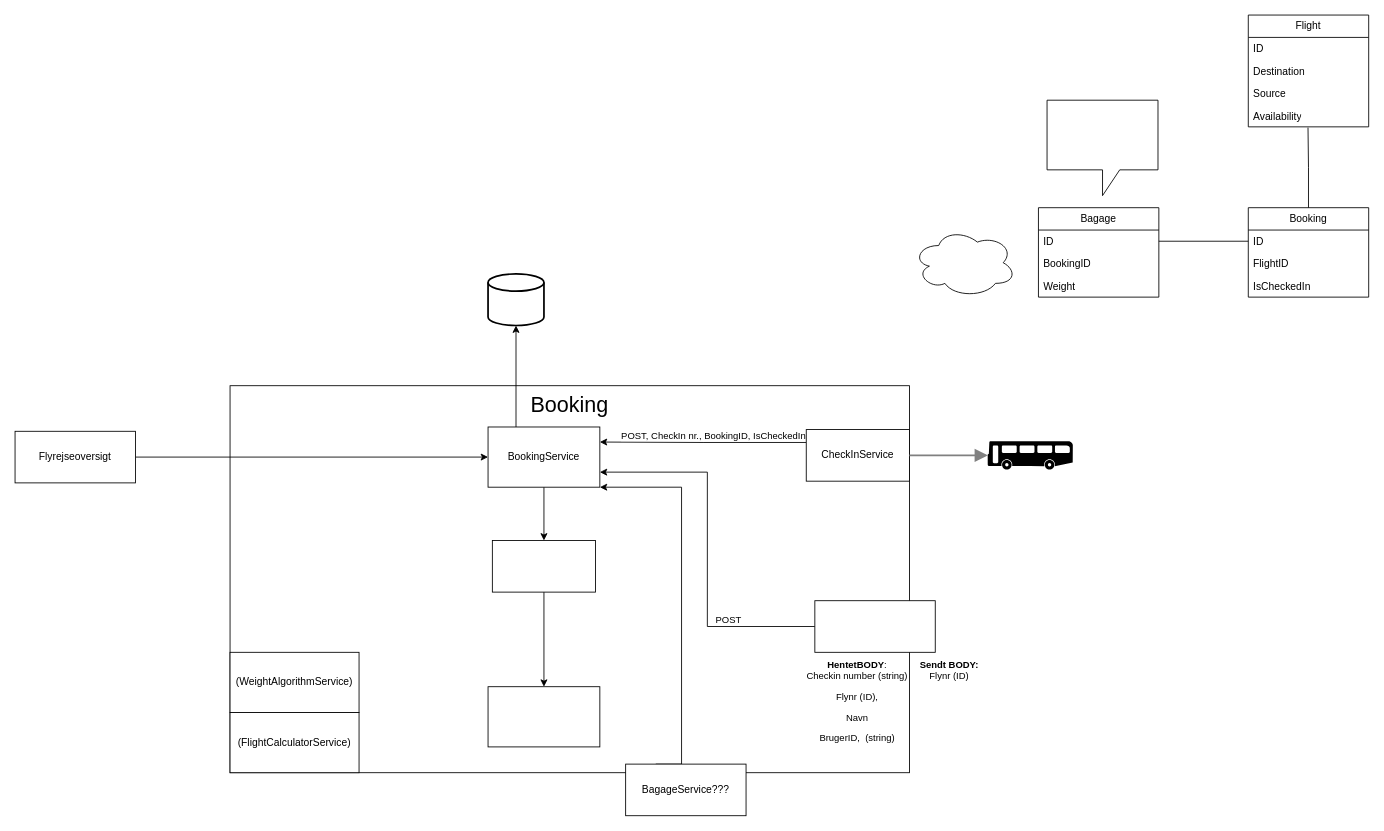
Image size: 1384x831. Some labels were removed from this diagram. The centre of each missing label's shape, as x and y in pixels:
Bagagen her henfører til "store" bagage i cargoen i flyet (ikk håndbagagen): (x=1102, y=147)
BillingService: (x=543, y=566)
BoardingPassService?: (x=874, y=626)
EmailService: (x=543, y=716)
Måske 'Size'?: (x=964, y=262)
